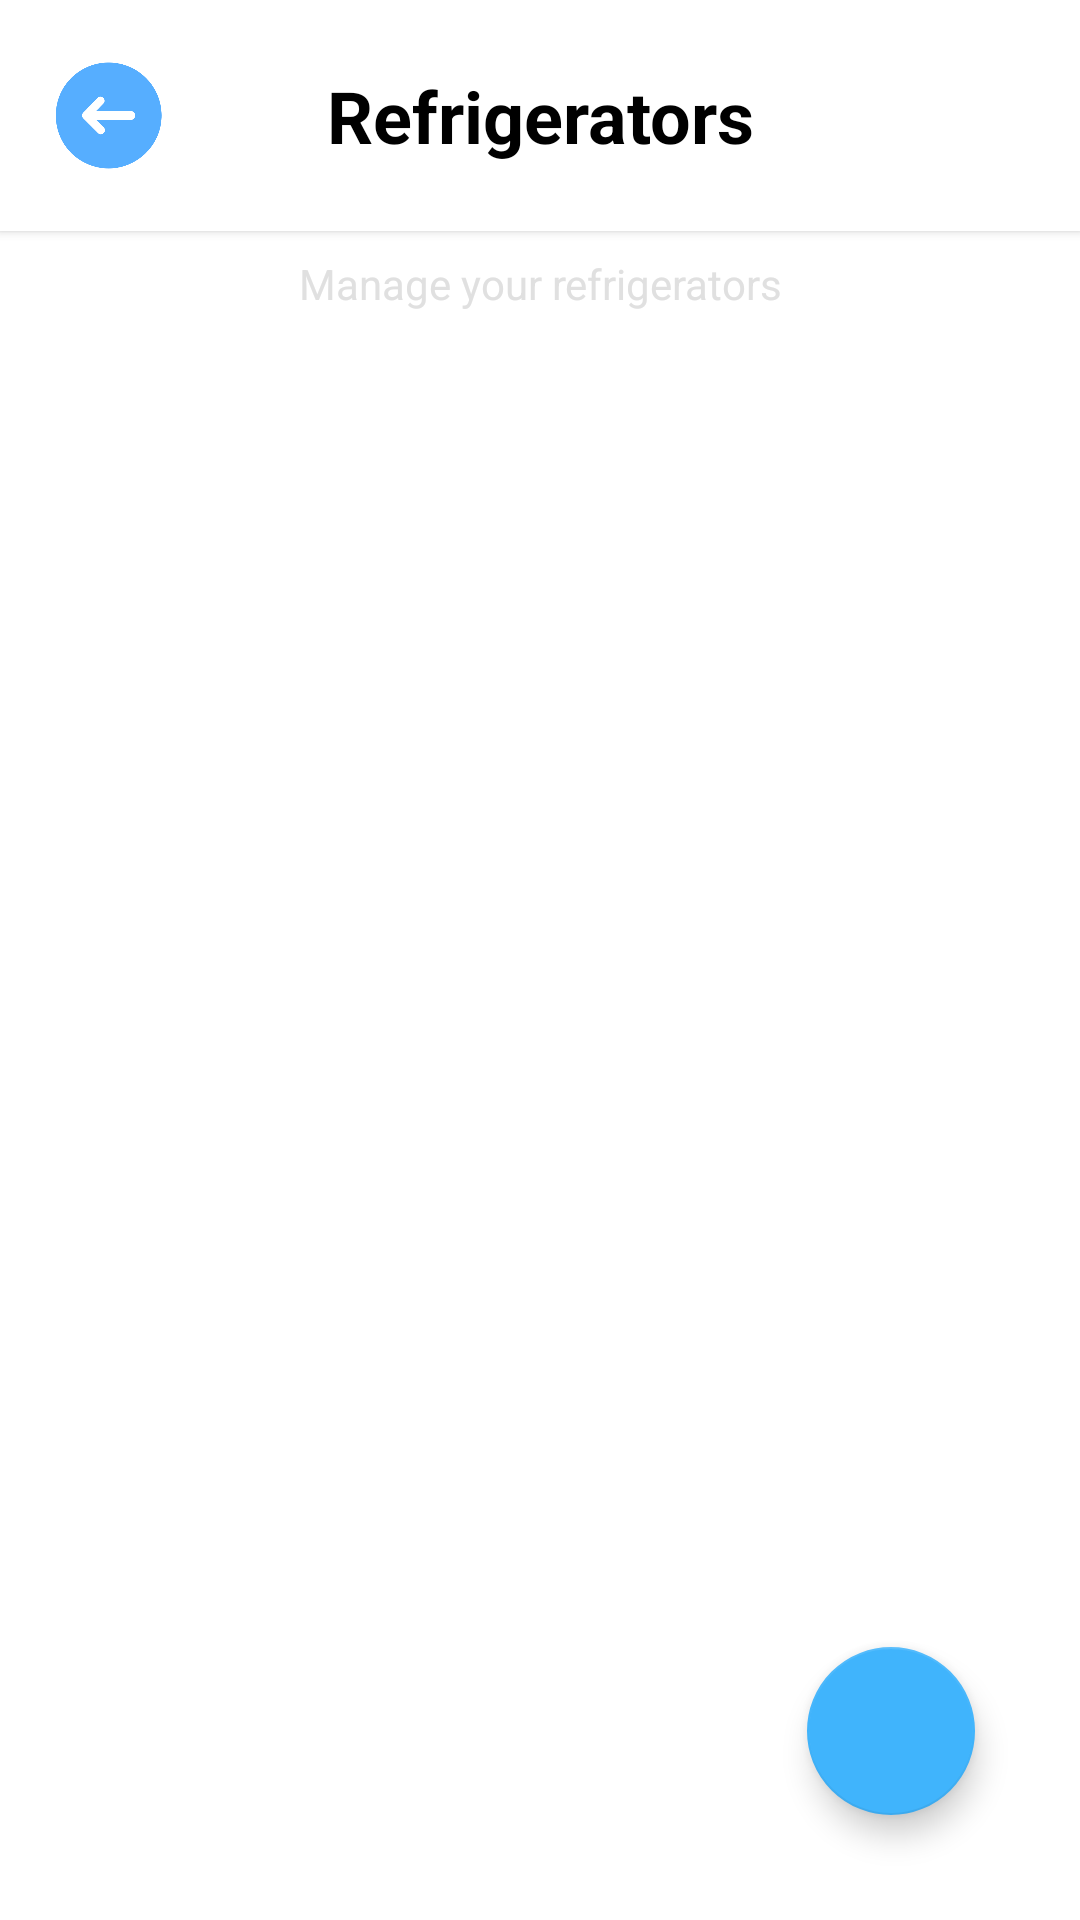

Icon bounding boxes for this 1080x1920 phone screenshot, format (x1, y1, x2, y2):
back arrow: (56, 62, 162, 169)
